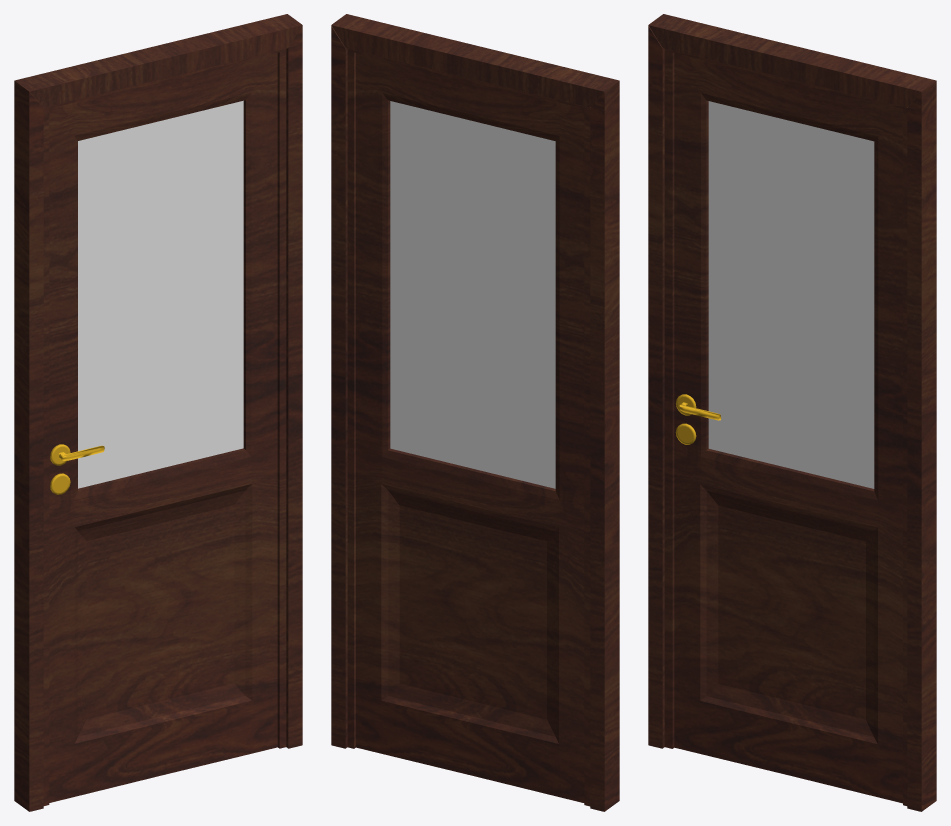
File: PUERTA15_CARRARA.glb
3 views of the same model, side by side, from view 1: azimuth 30°, elevation 25°; view 2: azimuth 150°, elevation 25°; view 3: azimuth 330°, elevation 25° (orthographic).
Visible parts, largest first — view 1: Puerta15_CARRARA, CRISTAL_GRANDE, Puerta15_Marco, Puerta15_Cerradura; view 2: Puerta15_CARRARA, CRISTAL_GRANDE, Puerta15_Marco; view 3: Puerta15_CARRARA, CRISTAL_GRANDE, Puerta15_Marco, Puerta15_Cerradura.
Boxes of the visible parts, <box> form: Puerta15_CARRARA: <box>43,49,286,805</box>; CRISTAL_GRANDE: <box>78,100,243,488</box>; Puerta15_Marco: <box>14,14,302,811</box>; Puerta15_Cerradura: <box>50,444,104,494</box>; Puerta15_CARRARA: <box>347,49,590,806</box>; CRISTAL_GRANDE: <box>390,101,555,488</box>; Puerta15_Marco: <box>331,14,619,811</box>; Puerta15_CARRARA: <box>664,49,907,805</box>; CRISTAL_GRANDE: <box>708,101,874,488</box>; Puerta15_Marco: <box>648,14,936,811</box>; Puerta15_Cerradura: <box>675,394,721,444</box>.
Bounding box in the file's own units: 769 × 1936 × 85.
5 materials, 3 textured.
